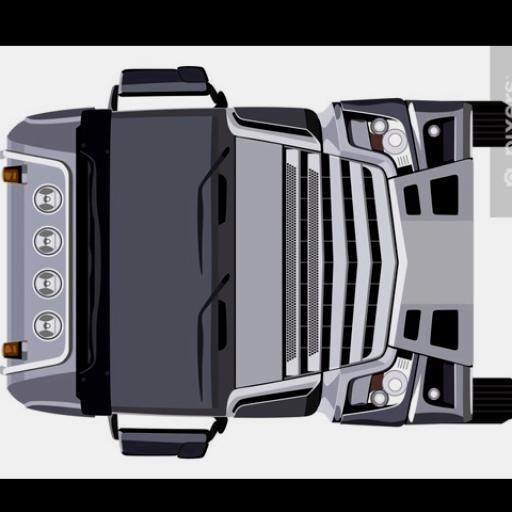truck: (0, 66, 512, 462)
